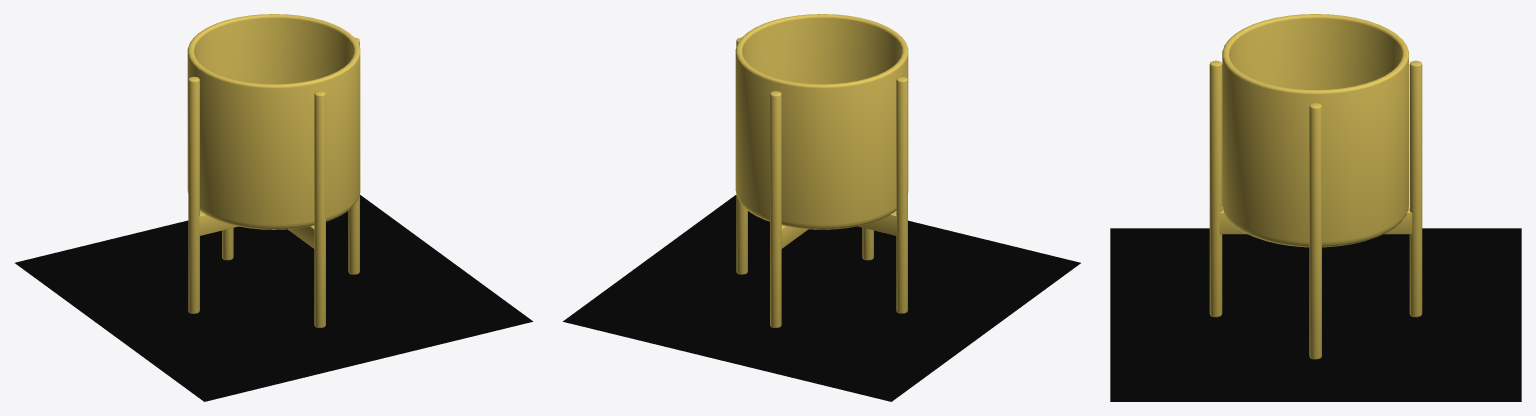
3 views of the same model, side by side, from view 1: azimuth 30°, elevation 25°; view 2: azimuth 150°, elevation 25°; view 3: azimuth 270°, elevation 25° (orthographic). The views are drawn at different scales.
Visible parts, largest first — view 1: Plane001, Cylinder001; view 2: Plane001, Cylinder001; view 3: Plane001, Cylinder001.
Boxes of the visible parts, x1,y1,x2,y2 form: Plane001: [15, 195, 532, 401]; Cylinder001: [187, 14, 360, 327]; Plane001: [563, 195, 1080, 401]; Cylinder001: [735, 14, 908, 327]; Plane001: [1110, 228, 1521, 401]; Cylinder001: [1209, 14, 1422, 359].
Bounding box in the file's own units: 28.51 × 28.51 × 20.08.
